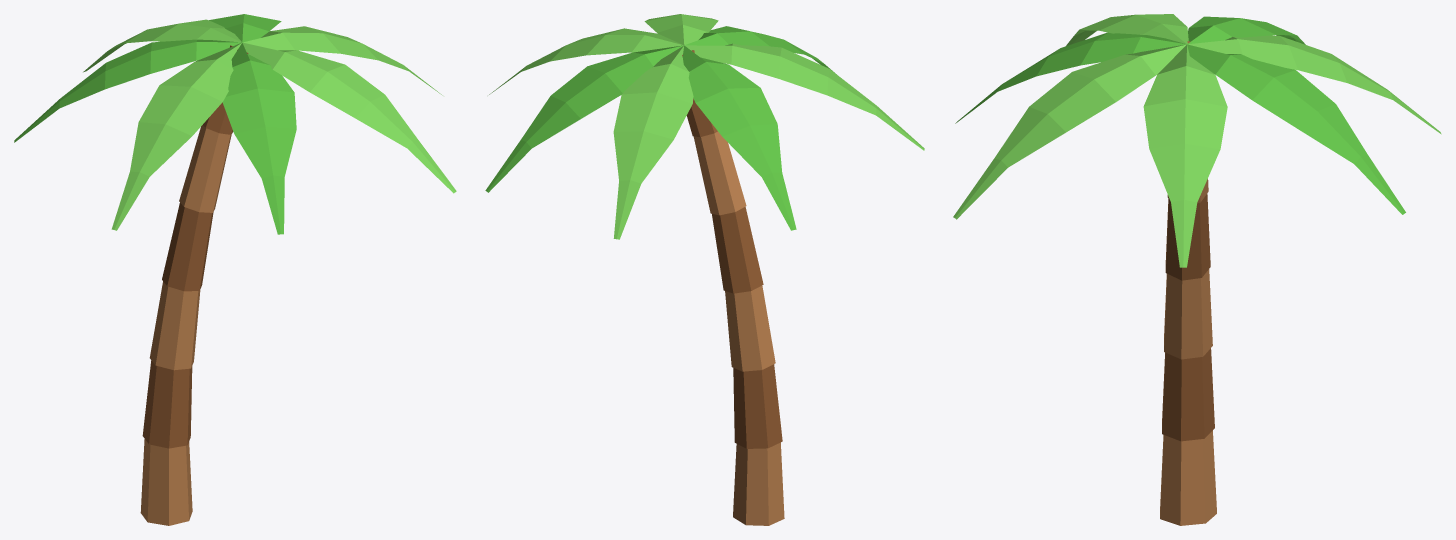
Rendered from palm_a.glb.
3 renders of one model, left to right at view 1: azimuth 30°, elevation 25°; view 2: azimuth 150°, elevation 25°; view 3: azimuth 270°, elevation 25°, orthographic. The views are drawn at different scales.
Visible parts, largest first — view 1: palm_a; view 2: palm_a; view 3: palm_a.
Part boxes in pixels (x1,y1,x2,y2): palm_a: [14, 14, 456, 525]; palm_a: [485, 14, 924, 525]; palm_a: [953, 14, 1441, 525].
Size of the model in its own units: 2.84 by 3.19 by 2.77.
